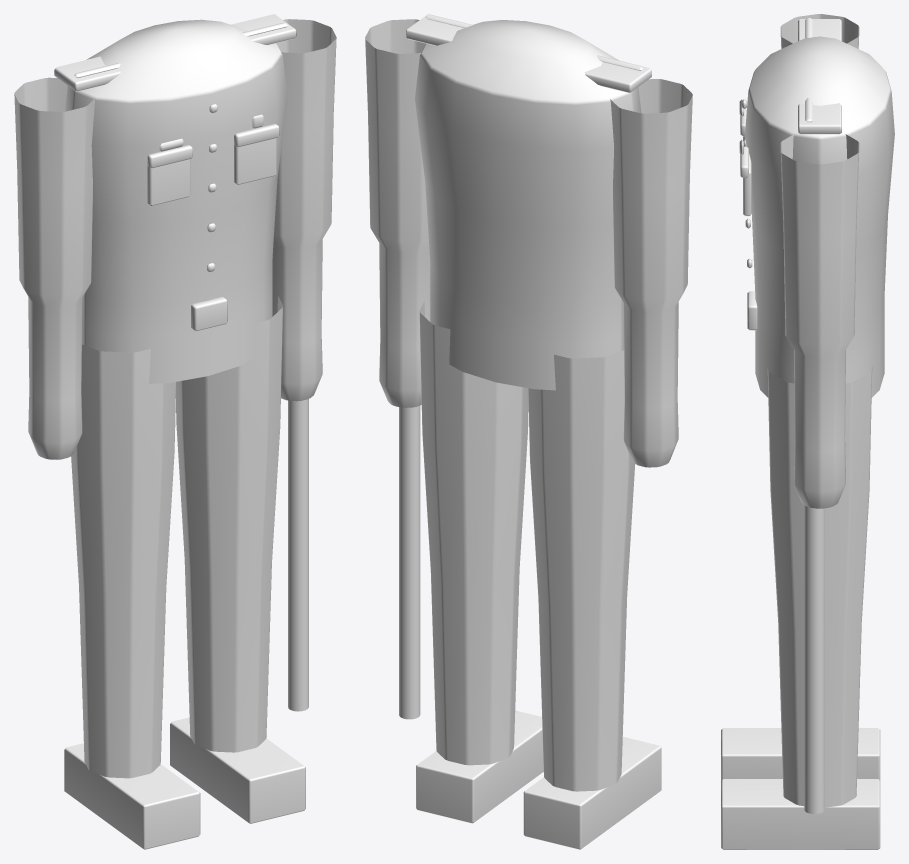
The model's file is giant_police_body.glb.
The picture shows the model from 3 angles, left to right: view 1: azimuth 30°, elevation 25°; view 2: azimuth 150°, elevation 25°; view 3: azimuth 270°, elevation 25°; orthographic projection. The views are drawn at different scales.
Parts seen in each view (by area): view 1: GiantPoliceBody; view 2: GiantPoliceBody; view 3: GiantPoliceBody.
Part boxes in pixels (x1=…): GiantPoliceBody: x1=14, y1=14, x2=336, y2=849; GiantPoliceBody: x1=365, y1=14, x2=692, y2=849; GiantPoliceBody: x1=721, y1=14, x2=894, y2=849.
Size of the model in its own units: 0.6475 by 1.52 by 0.3164.
Materials: 1 (1 with a texture image).
